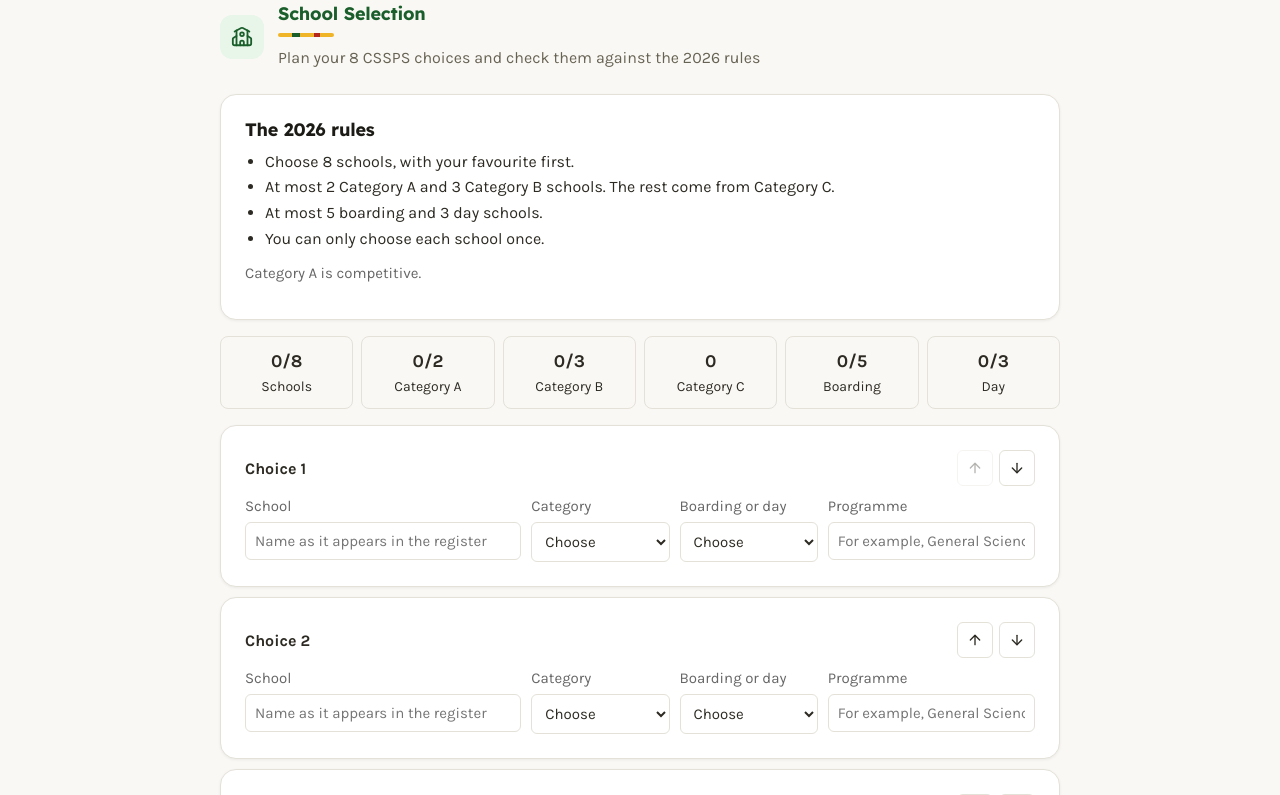
Test case: SchoolChoiceModule › sends blank selects as null and shows the server check
Expected: the heading "The 2026 rules" is shown, [245,118,375,141]
Step 1. Type "Opoku Ware" into the 1st field with placeholder "Name as it appears in the register" → (383, 541), box [245,522,521,560]
(page scrolled)
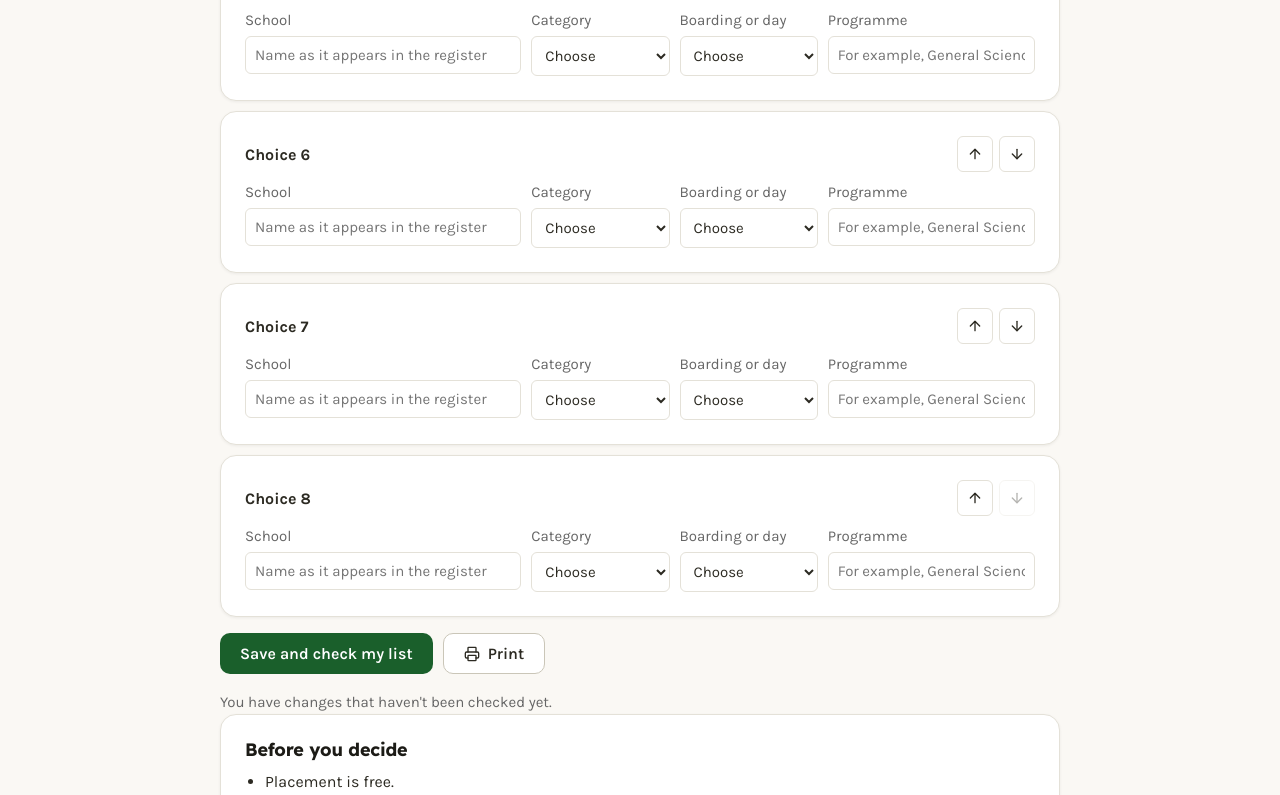
Step 2. Click the button "Save and check my list" → (326, 654), box [220,633,433,674]
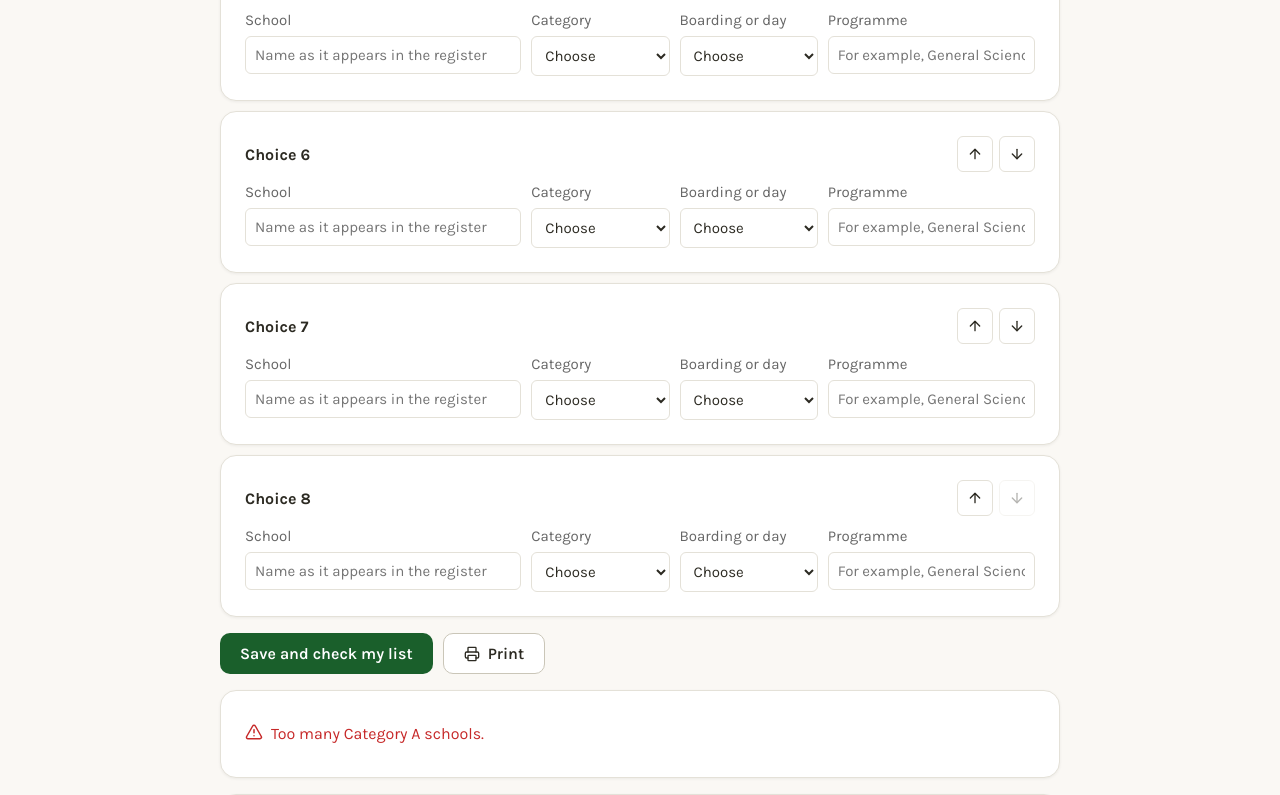
Expected: the text "Too many Category A schools." is shown, [245,723,484,743]
